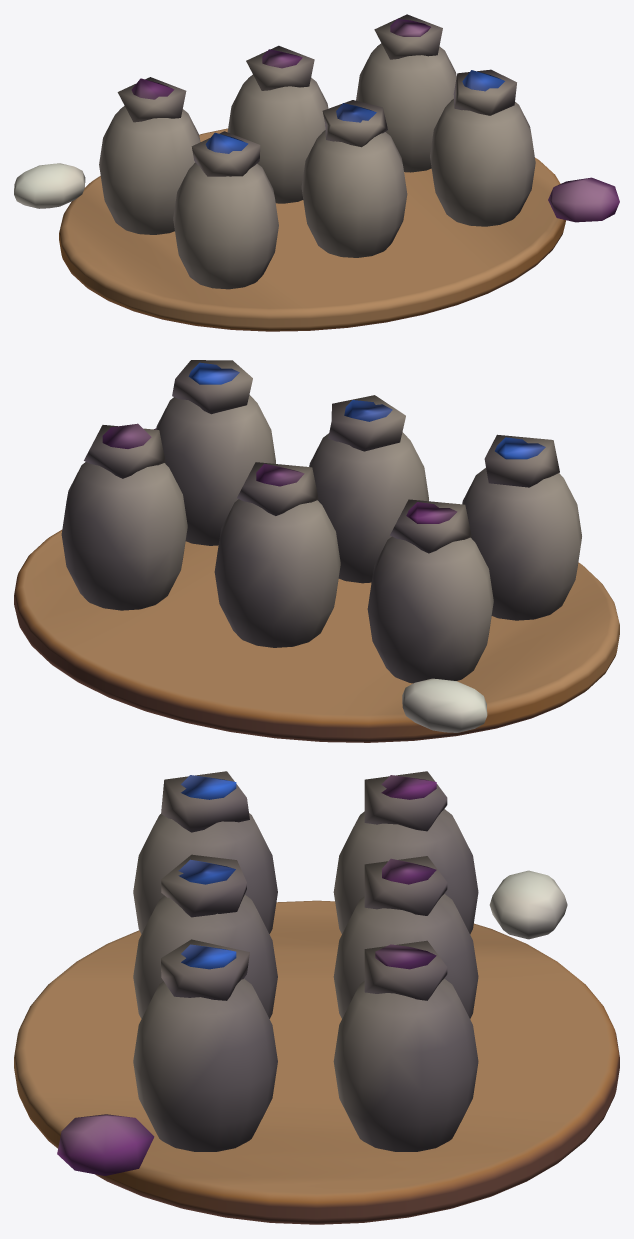
Rendered from cana.glb.
3 views of the same model, one above another, from view 1: azimuth 30°, elevation 25°; view 2: azimuth 150°, elevation 25°; view 3: azimuth 270°, elevation 25° (orthographic). The views are drawn at different scales.
Parts seen in each view (by area): view 1: cana; view 2: cana; view 3: cana.
Boxes of the visible parts, x1,y1,x2,y2 form: cana: [14, 14, 619, 331]; cana: [14, 360, 619, 742]; cana: [14, 771, 619, 1224].
Size of the model in its own units: 6.4 by 2.09 by 5.44.
